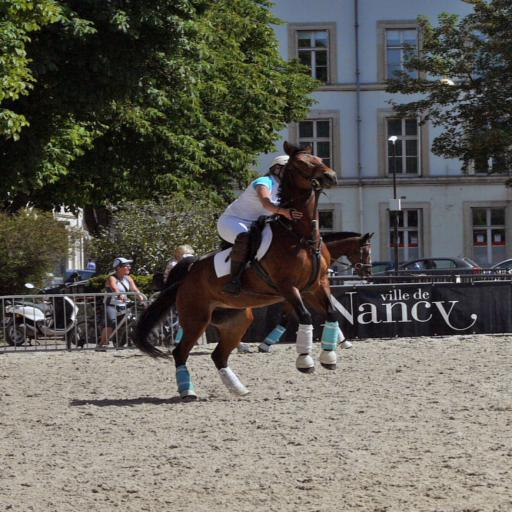horse: (135, 140, 336, 402), (165, 234, 375, 354)
